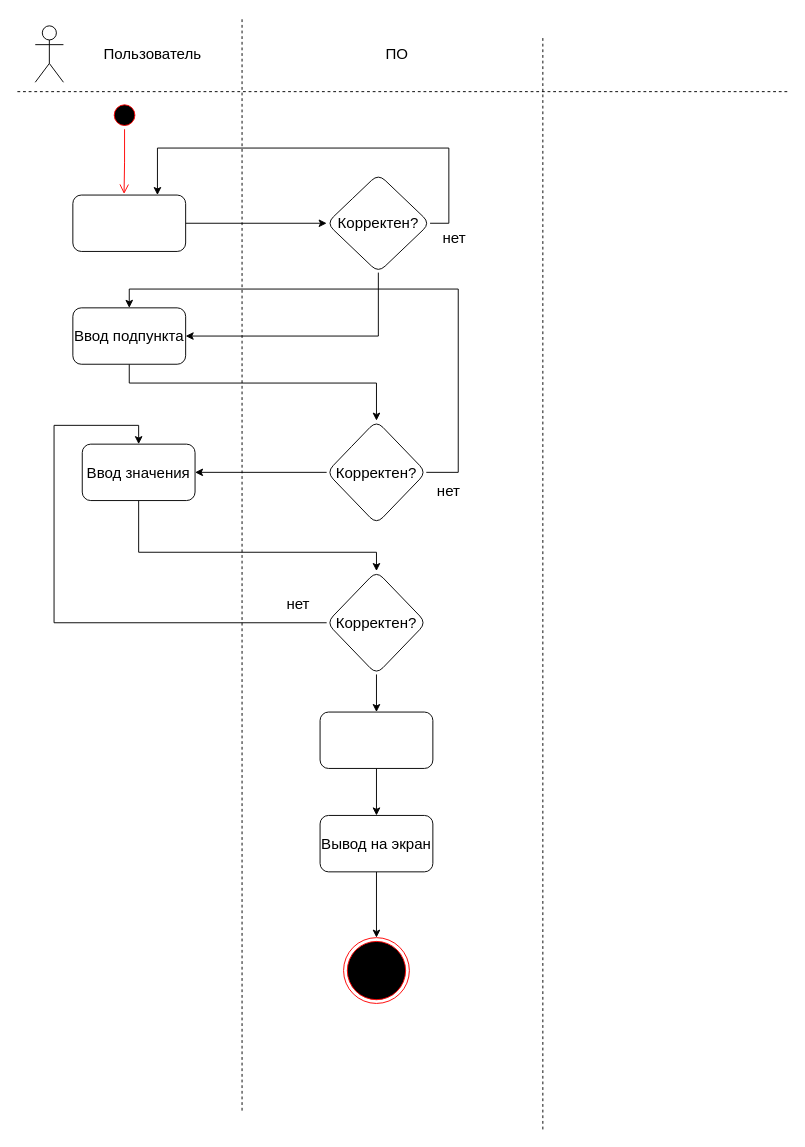
The diagram is 805 pixels wide and 1147 high, and some of its shapes have lost their labels. Each missing label, with the box of its shape:
Ввод пункта меню: (72, 194, 186, 251)
Преобразование: (319, 711, 433, 768)
